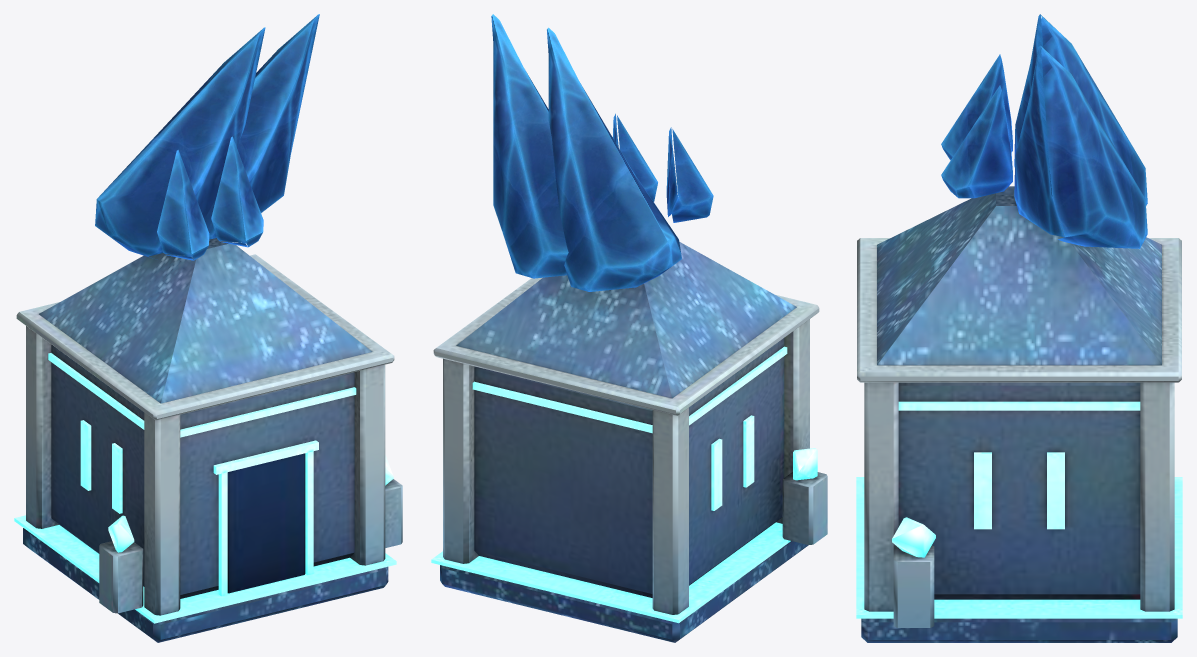
Rendered from bld2_frost.glb.
3 views of the same model, side by side, from view 1: azimuth 30°, elevation 25°; view 2: azimuth 150°, elevation 25°; view 3: azimuth 270°, elevation 25° (orthographic). The views are drawn at different scales.
Visible parts, largest first — view 1: bld2_frost; view 2: bld2_frost; view 3: bld2_frost.
Part boxes in pixels (x1,y1,x2,y2): bld2_frost: (14, 14, 402, 642); bld2_frost: (431, 14, 827, 642); bld2_frost: (856, 14, 1182, 642).
Bounding box in the file's own units: 4.8 × 8.2 × 4.02.
Materials: 2 (2 with a texture image).
